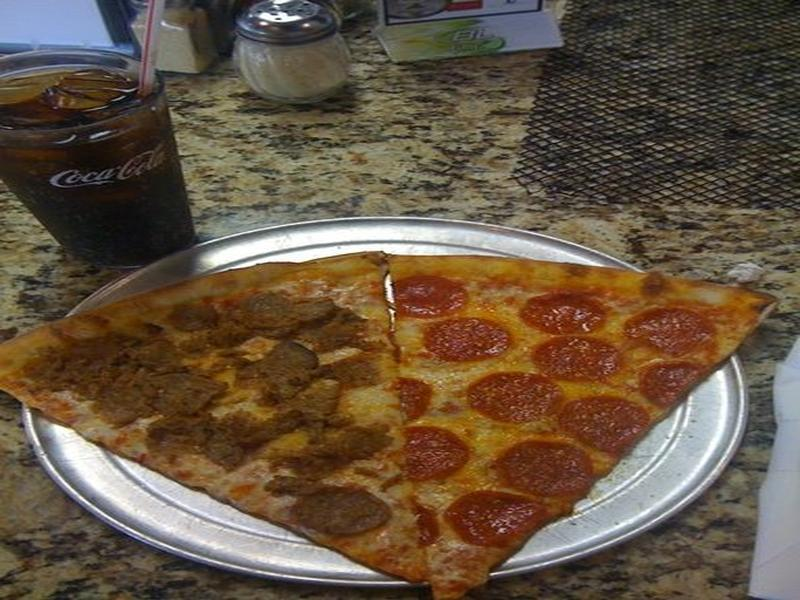pizza: (55, 201, 761, 561)
